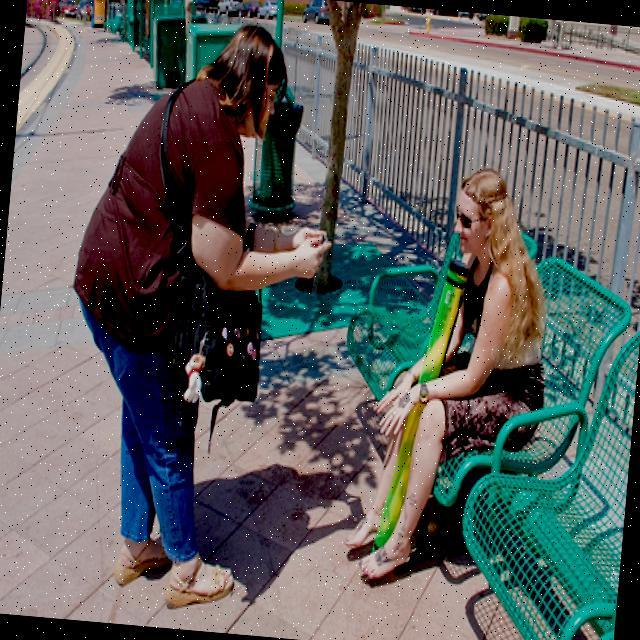fire_hydrant: (424, 16, 429, 32)
